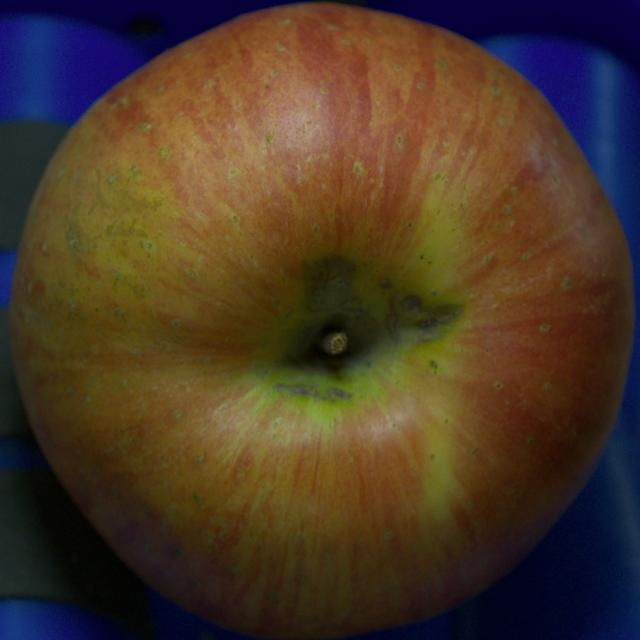apple: (8, 4, 633, 639)
bruise: (301, 251, 357, 314), (415, 306, 461, 339), (401, 295, 421, 312)
scratch: (274, 384, 352, 401), (384, 294, 402, 345)
